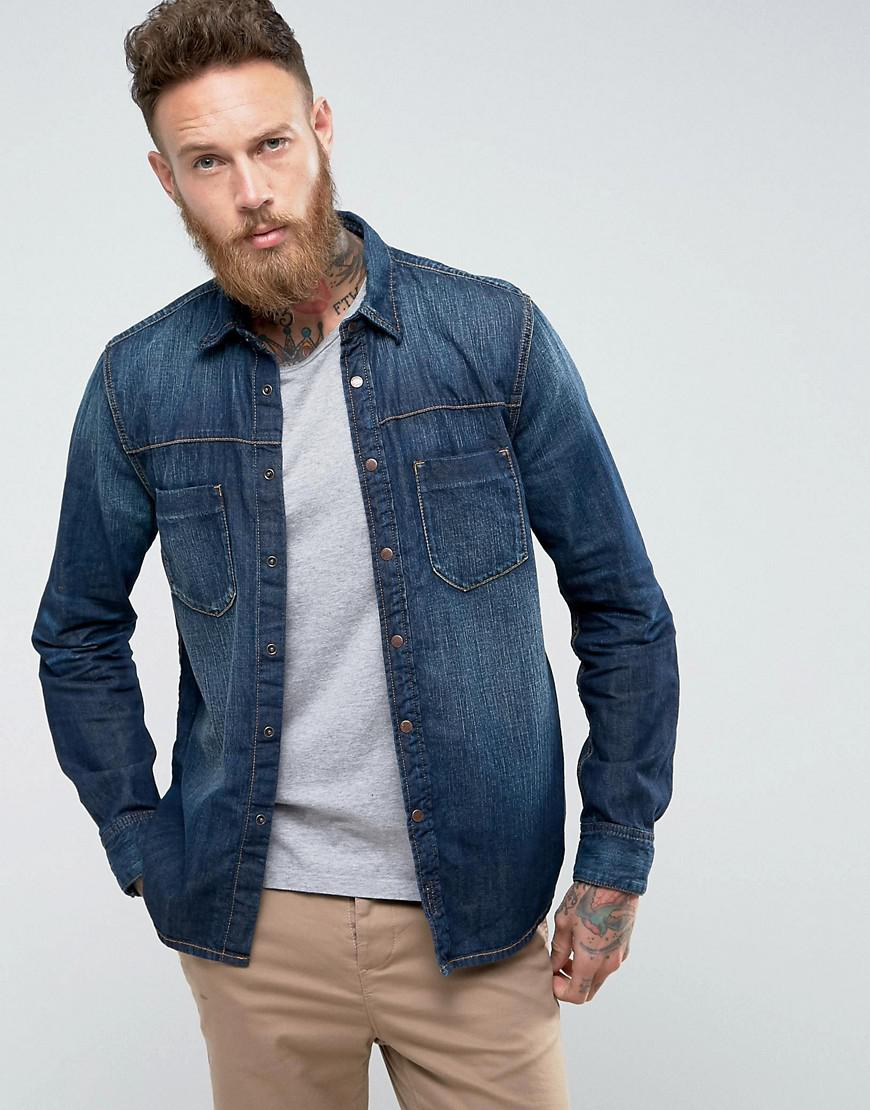teeshirt: (25, 285, 696, 929)
